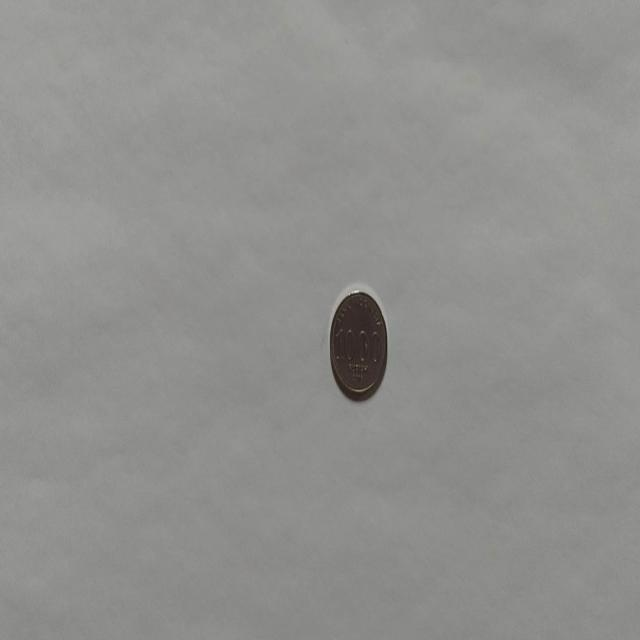seribu rupiah koin: (328, 284, 388, 402)
